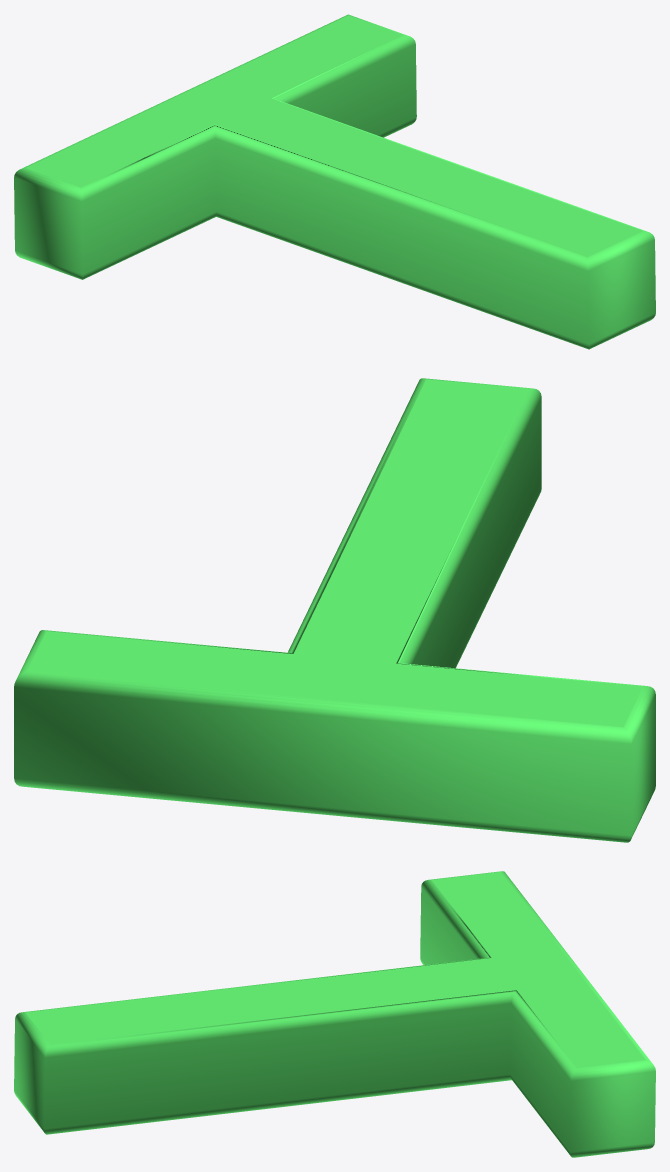
Rendered from ToyObject_230.fbx.
The picture shows the model from 3 angles, top to bottom: view 1: azimuth 30°, elevation 25°; view 2: azimuth 150°, elevation 25°; view 3: azimuth 270°, elevation 25°; orthographic projection. The views are drawn at different scales.
Parts seen in each view (by area): view 1: Object.097; view 2: Object.097; view 3: Object.097.
Part boxes in pixels (x1=…): Object.097: x1=14, y1=14, x2=655, y2=349; Object.097: x1=14, y1=378, x2=655, y2=842; Object.097: x1=14, y1=871, x2=655, y2=1157.
Size of the model in its own units: 0.1516 by 0.034 by 0.1982.
